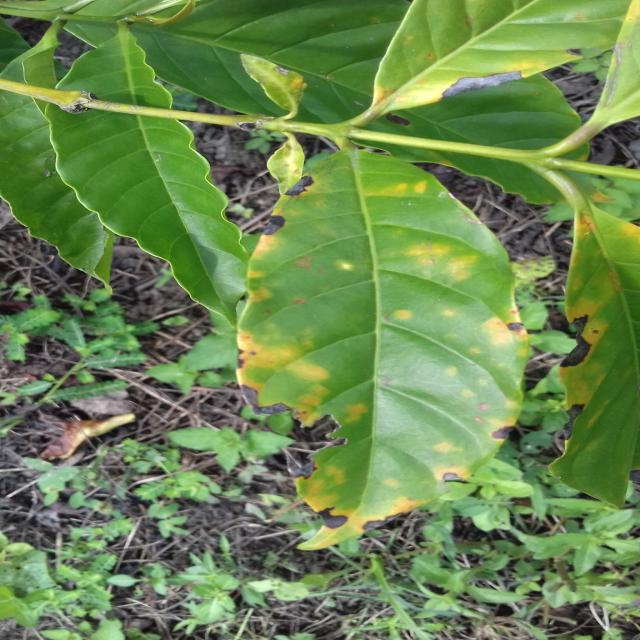Enfermedad-Roya: (234, 151, 529, 543)
